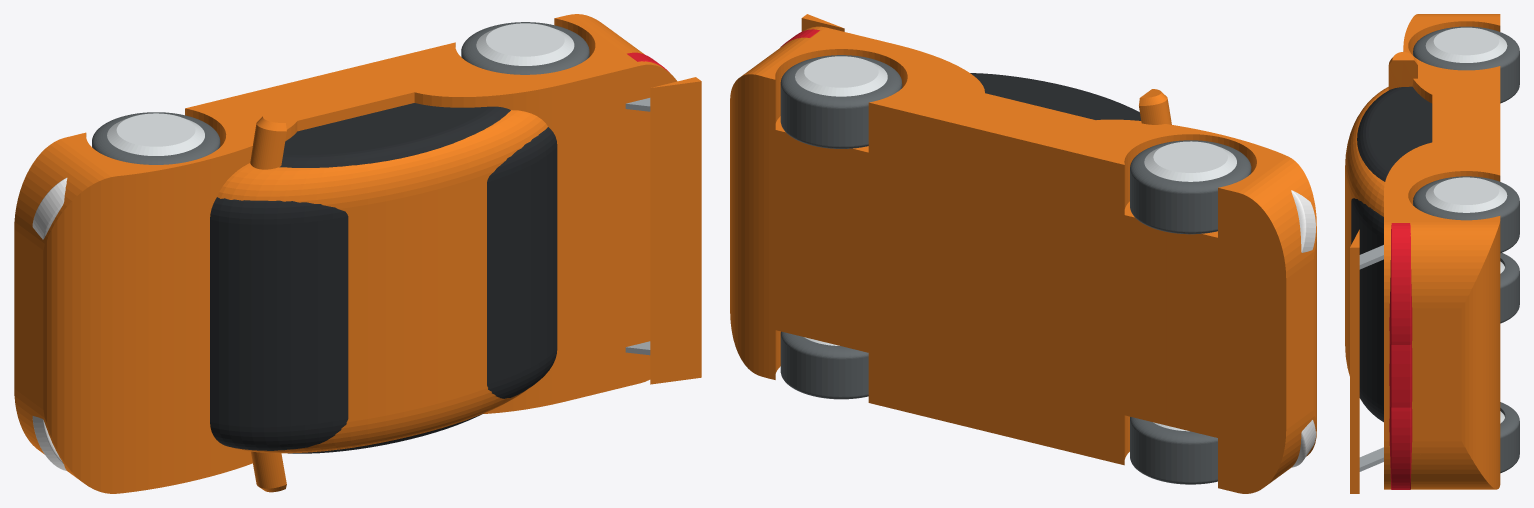
The model's file is tinker.obj.
3 renders of one model, left to right at view 1: azimuth 30°, elevation 25°; view 2: azimuth 150°, elevation 25°; view 3: azimuth 270°, elevation 25°, orthographic. The views are drawn at different scales.
Visible parts, largest first — view 1: group_0_16089887, group_0_2829873, group_0_14541540, group_0_6383466, group_0_16448250; view 2: group_0_16089887, group_0_6383466, group_0_14541540, group_0_2829873, group_0_16448250; view 3: group_0_16089887, group_0_2829873, group_0_6383466, group_0_15277357, group_0_14541540, group_0_10988977.
Part boxes in pixels (box(x1,y1,x2,y2)): group_0_16089887: box(14, 14, 701, 493); group_0_2829873: box(210, 103, 557, 453); group_0_14541540: box(107, 23, 574, 155); group_0_6383466: box(92, 22, 589, 164); group_0_16448250: box(32, 177, 67, 470); group_0_16089887: box(730, 14, 1316, 493); group_0_6383466: box(780, 55, 1251, 484); group_0_14541540: box(795, 56, 1236, 431); group_0_2829873: box(970, 73, 1141, 120); group_0_16448250: box(1291, 190, 1315, 467); group_0_16089887: box(1345, 14, 1500, 493); group_0_2829873: box(1351, 86, 1432, 421); group_0_6383466: box(1413, 26, 1519, 473); group_0_15277357: box(1389, 223, 1412, 489); group_0_14541540: box(1425, 27, 1507, 423); group_0_10988977: box(1359, 245, 1383, 471).
Bounding box in the file's own units: 121 × 70.2 × 36.
